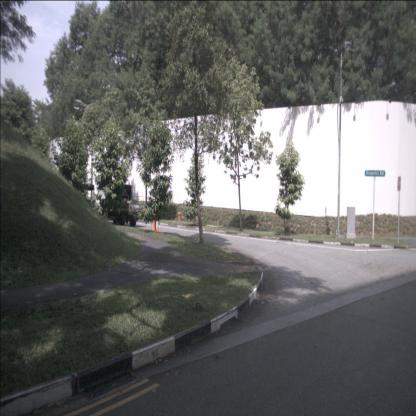cone: (151, 213, 156, 231), (155, 214, 159, 233)
